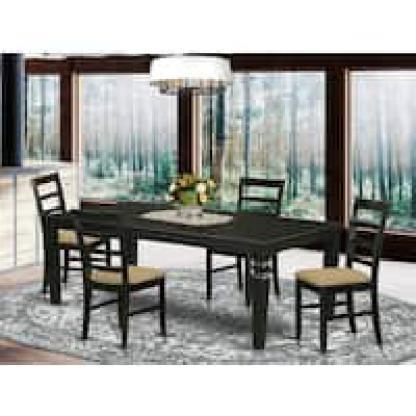chair: (292, 199, 393, 351), (79, 214, 163, 351), (204, 178, 282, 304), (28, 174, 115, 284)
light: (145, 0, 237, 109)
table: (40, 209, 348, 353)
